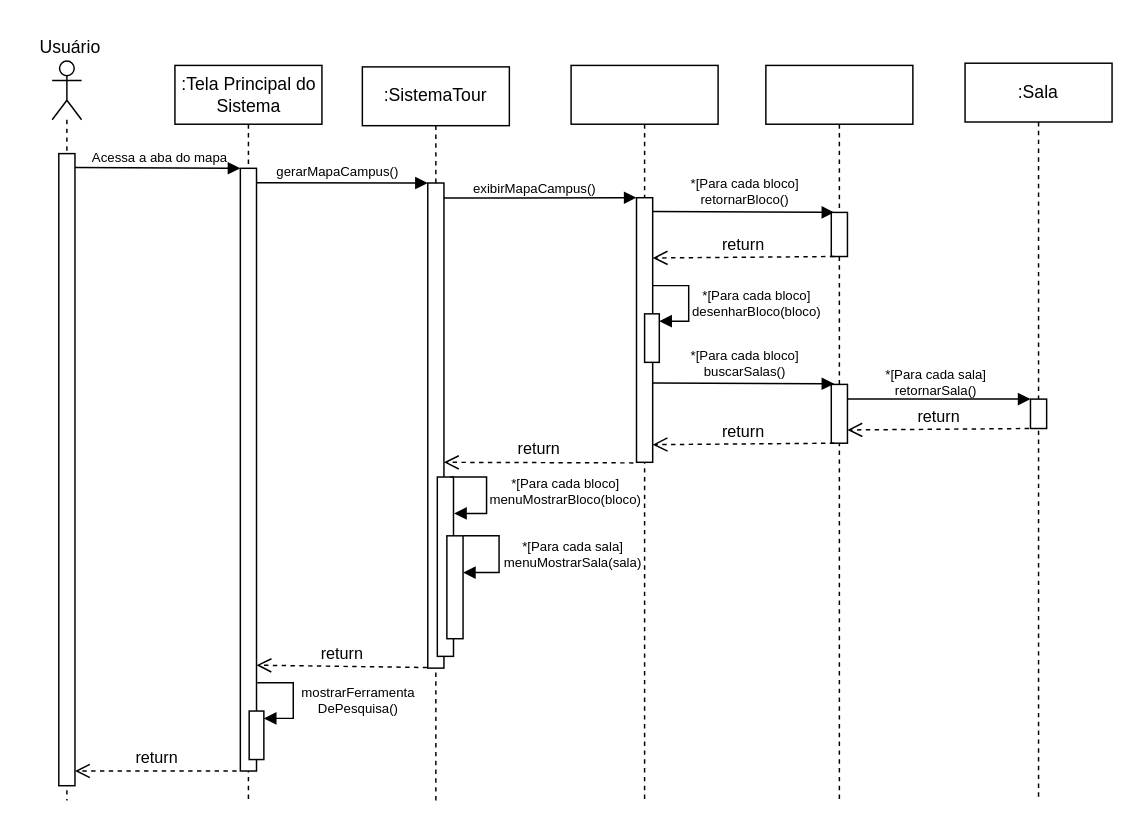
The diagram is 1138 pixels wide and 826 high, and some of its shapes have lost their labels. The shapes that lost their labels are listed below. From the top down, each one's box as (x1, y1, x2, y2) in pixels, then its label:
(570, 64, 718, 800): :MapaCampus
(764, 64, 913, 800): :Bloco
